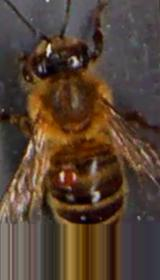varroa_mite: (45, 164, 83, 185)
